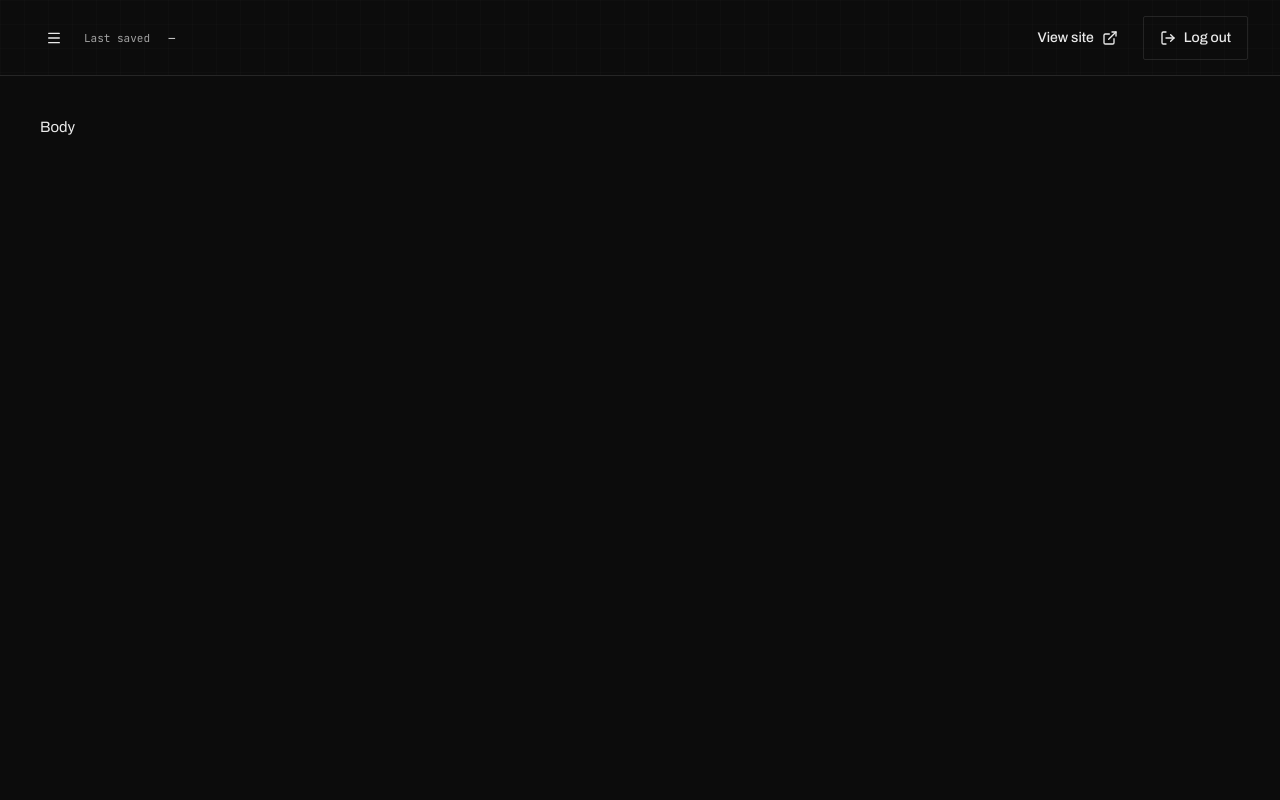
Test: AdminLayout › menu button opens the drawer with the same links
The width and height of the screenshot is (1280, 800).
Expected: the link "Profile" is not shown
Click the button named "Open menu": (54, 38) top-left (32, 16), bottom-right (76, 60)
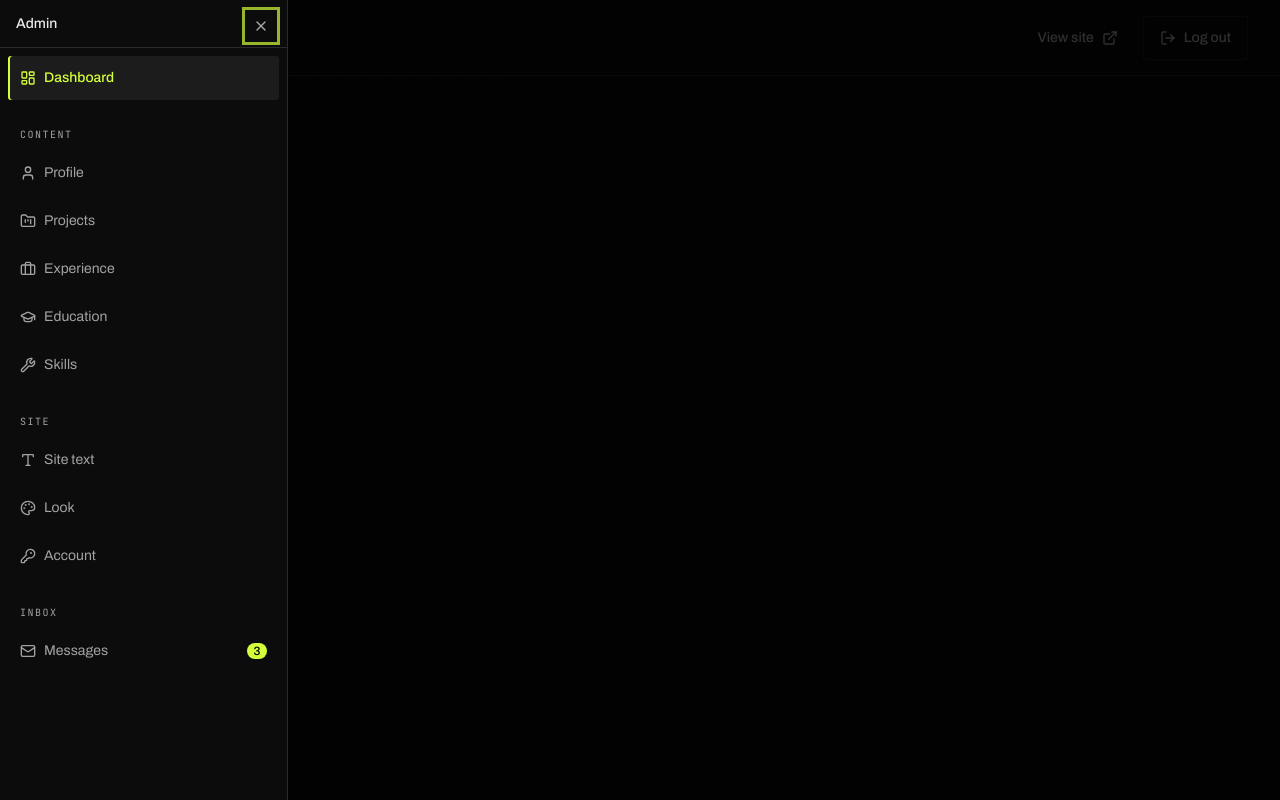
Expected: the link "Dashboard" is shown, top-left (8, 56), bottom-right (279, 100)
Expected: the link "Profile" is shown, top-left (20, 165), bottom-right (84, 181)
Expected: the link "Projects" is shown, top-left (20, 213), bottom-right (95, 229)
